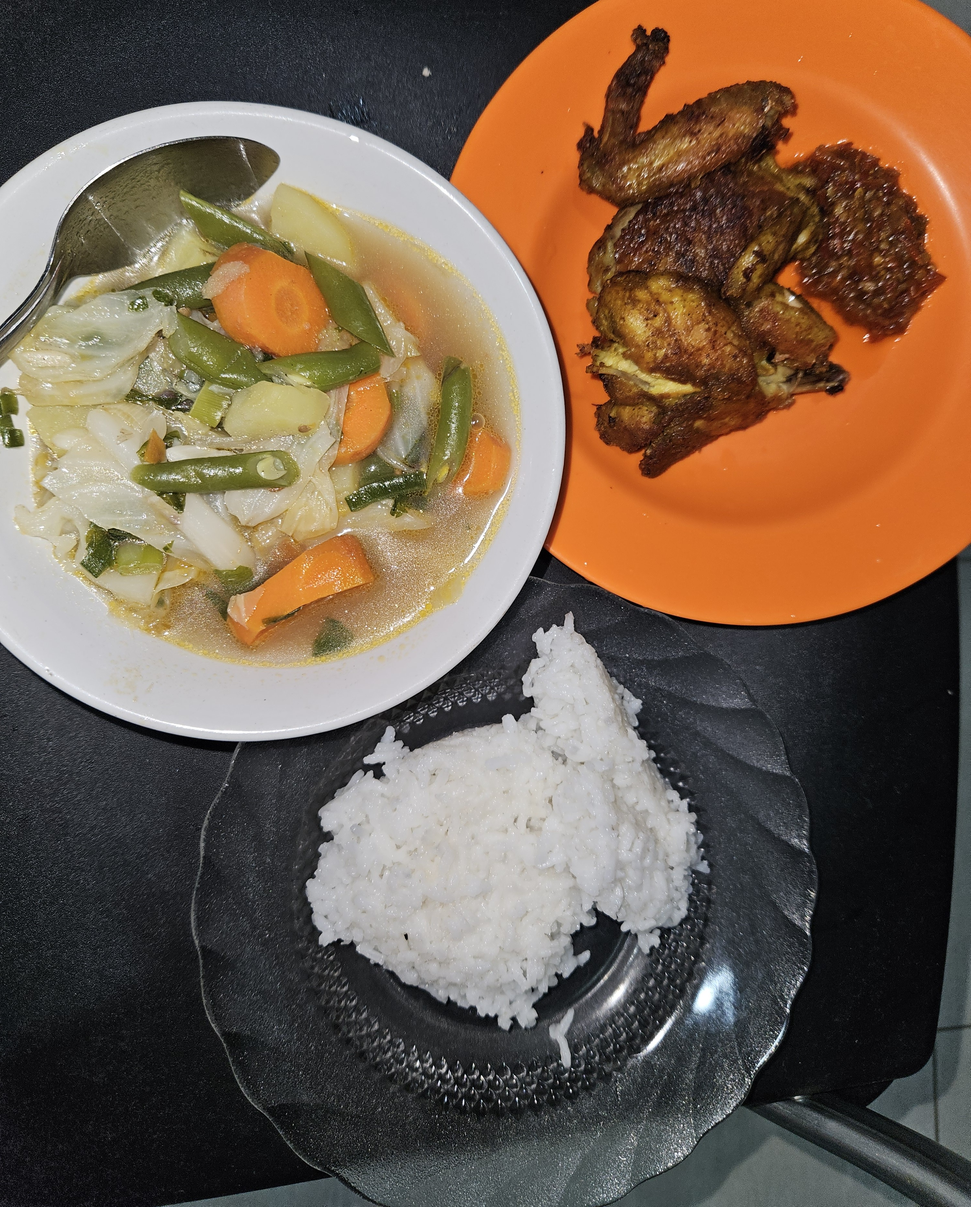buah_sayur_lainnya: (0, 181, 486, 602)
daging: (591, 57, 806, 478)
makanan_berpati: (277, 712, 717, 963)
